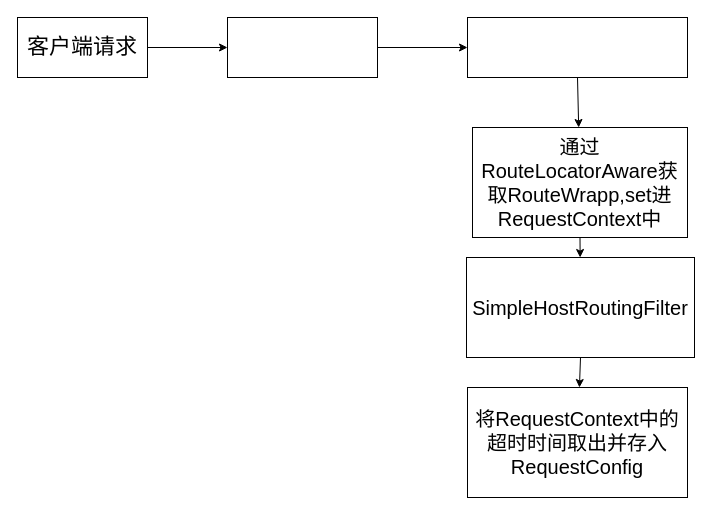
Image size: 712x515. Some labels were removed from this diagram. Each missing label, with the centre of its shape:
"PreDecorationFilter" belongs at [577,47].
"Zuul网关" belongs at [302,47].
